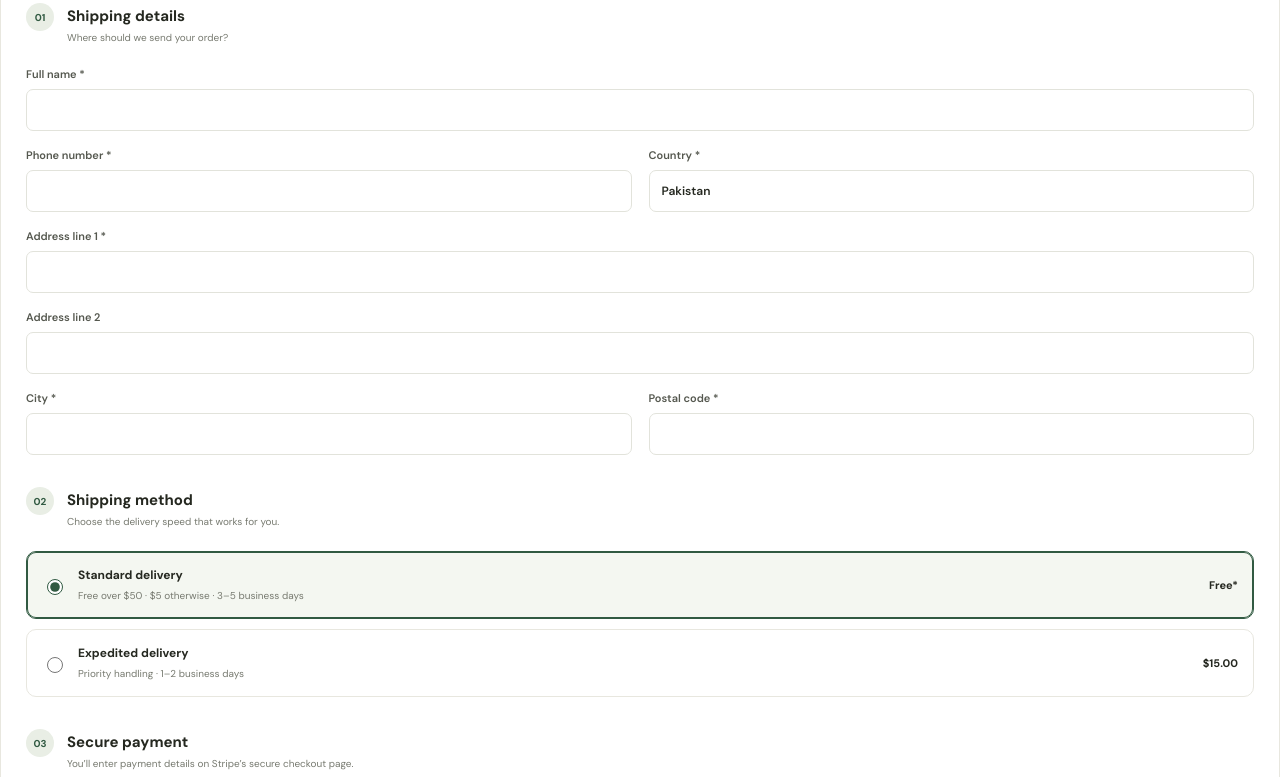
CheckoutForm › submits address and shipping method, then reports API errors accessibly
Type "Taylor Customer" into the field labelled "Full name *" at {"x": 640, "y": 110}, box [26,89,1254,131]
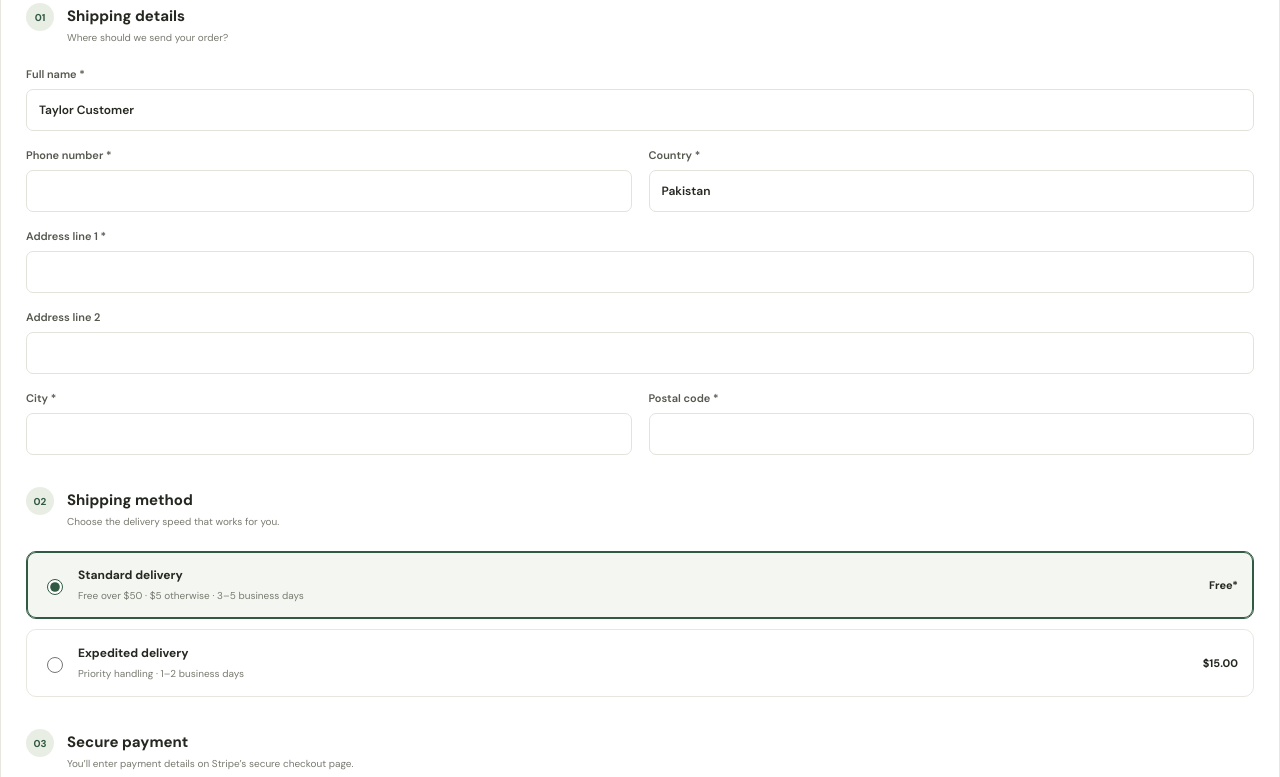
Type "5551234567" into the field labelled "Phone number *" at {"x": 329, "y": 191}, box [26,170,632,212]
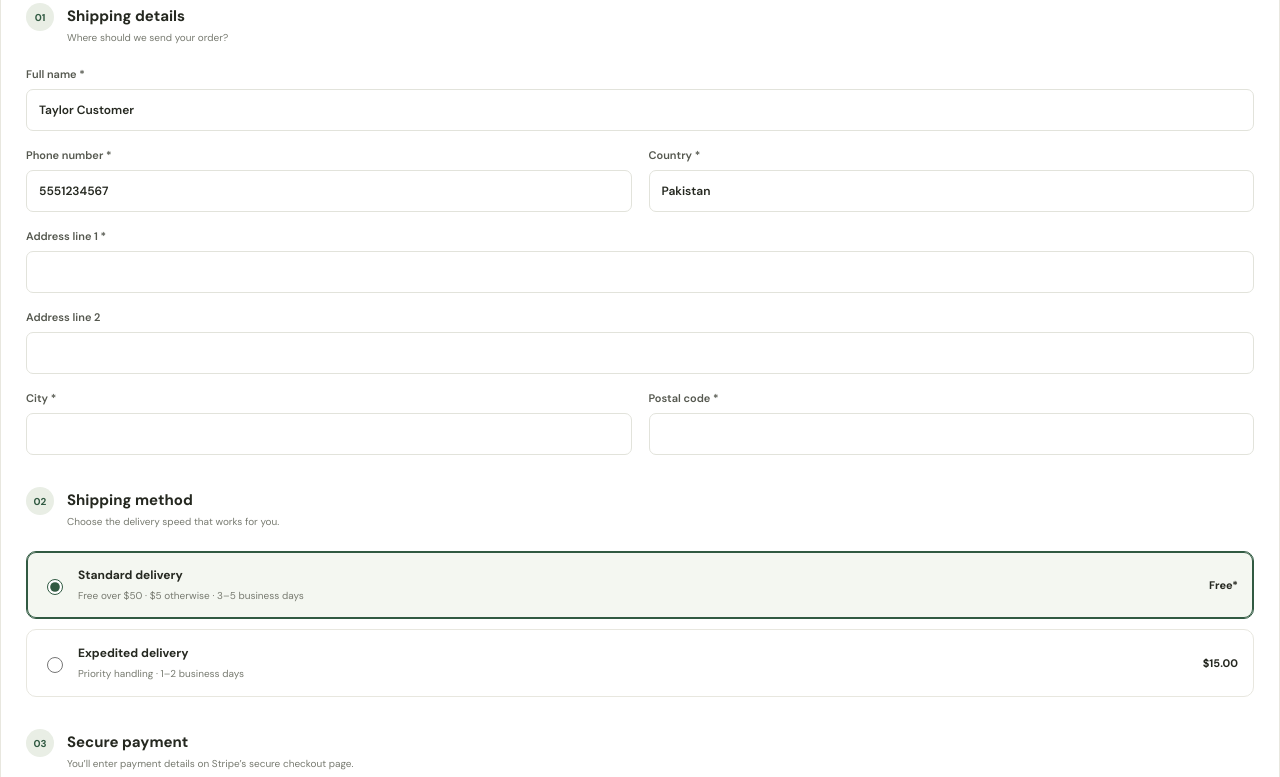
Type "12 Market Street" into the field labelled "Address line 1 *" at {"x": 640, "y": 272}, box [26,251,1254,293]
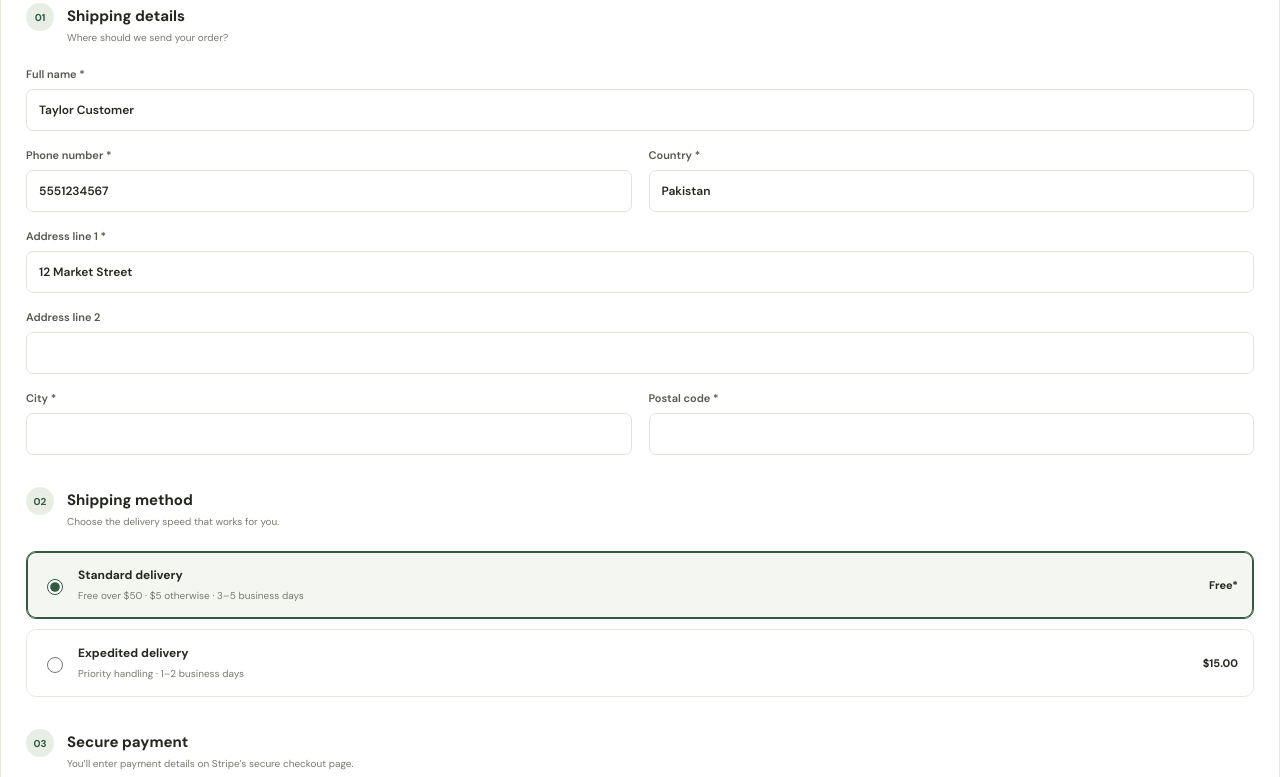
Type "Lahore" into the field labelled "City *" at {"x": 329, "y": 434}, box [26,413,632,455]
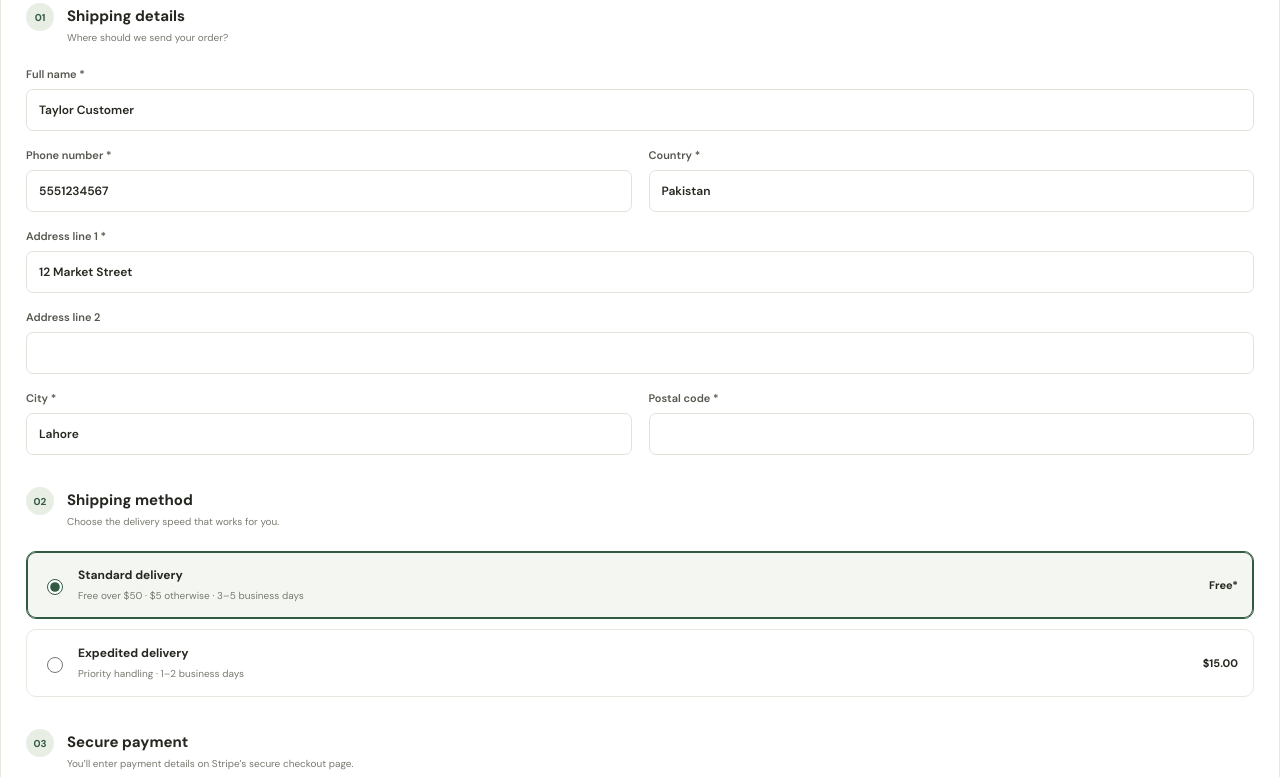
Type "54000" into the field labelled "Postal code *" at {"x": 951, "y": 434}, box [648,413,1254,455]
(page scrolled)
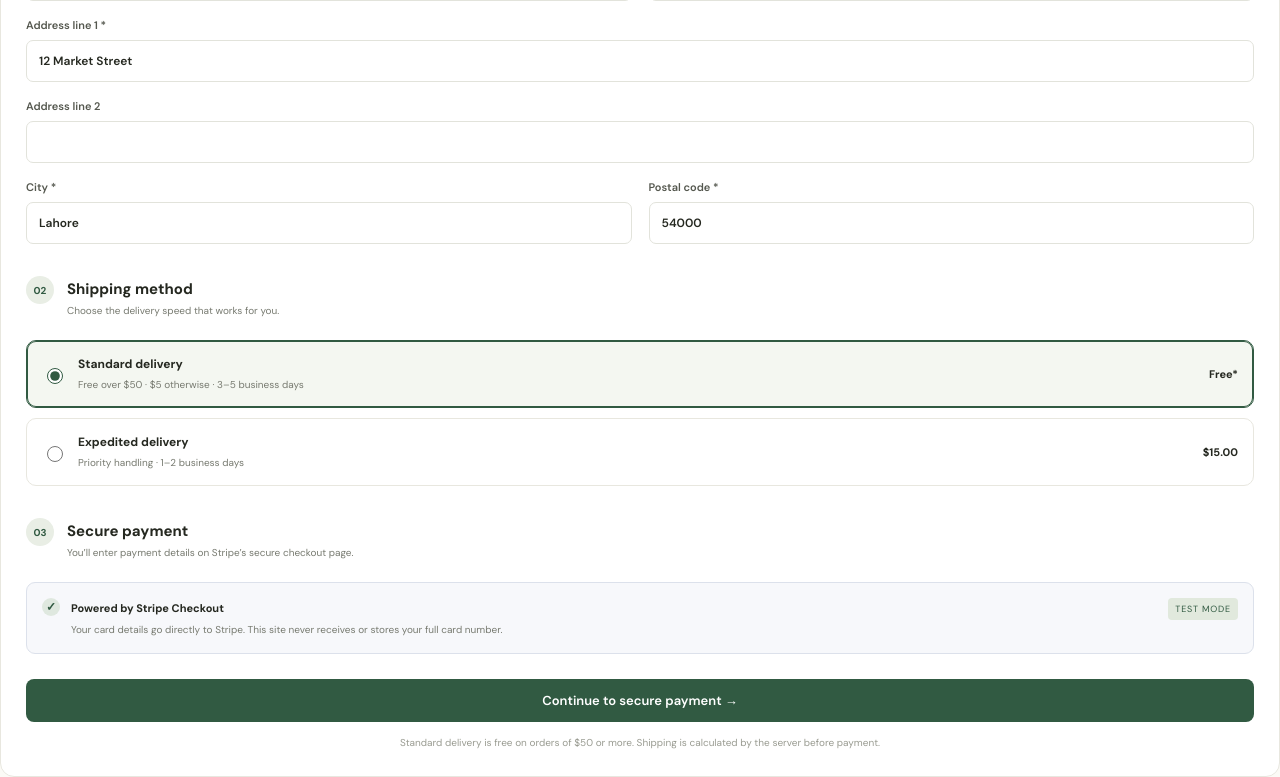
Click the button "Continue to secure payment →" at {"x": 640, "y": 700}, box [26,679,1254,722]
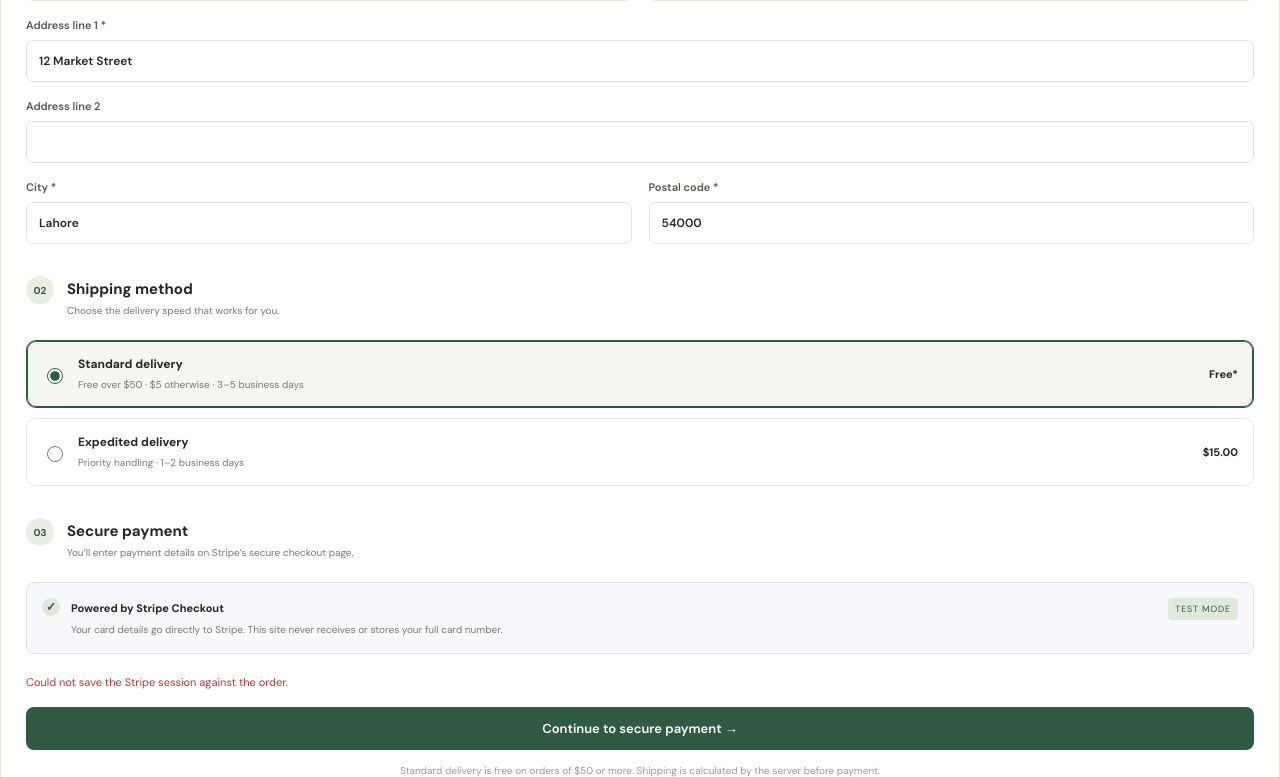
Expected: the button "Continue to secure payment →" is enabled, [26,706,1254,750]
Now the message reads "Could not save the Stripe session against the order.", box [26,675,288,689]
